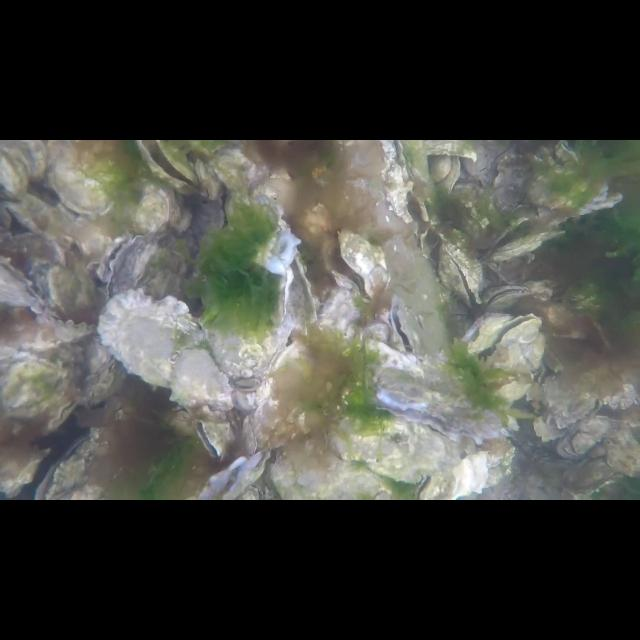Oyster-Closed: (98, 290, 235, 410), (338, 421, 464, 485), (252, 338, 312, 444), (0, 354, 82, 418), (53, 142, 121, 214), (11, 193, 79, 250), (1, 140, 52, 198), (48, 261, 104, 313), (489, 229, 567, 263), (318, 287, 360, 345), (130, 188, 172, 236), (44, 311, 98, 339), (400, 140, 430, 184), (363, 319, 391, 345)
Oyster-Open: (212, 140, 302, 276), (374, 364, 508, 446), (34, 430, 116, 500), (326, 226, 388, 304), (380, 140, 430, 224), (537, 365, 601, 427), (198, 448, 272, 500), (478, 312, 540, 372), (137, 140, 200, 193), (439, 245, 487, 307), (284, 253, 320, 331), (95, 230, 141, 290), (0, 256, 44, 310), (465, 313, 519, 353), (387, 296, 421, 354), (45, 394, 87, 436), (198, 419, 234, 458), (488, 286, 532, 310)
